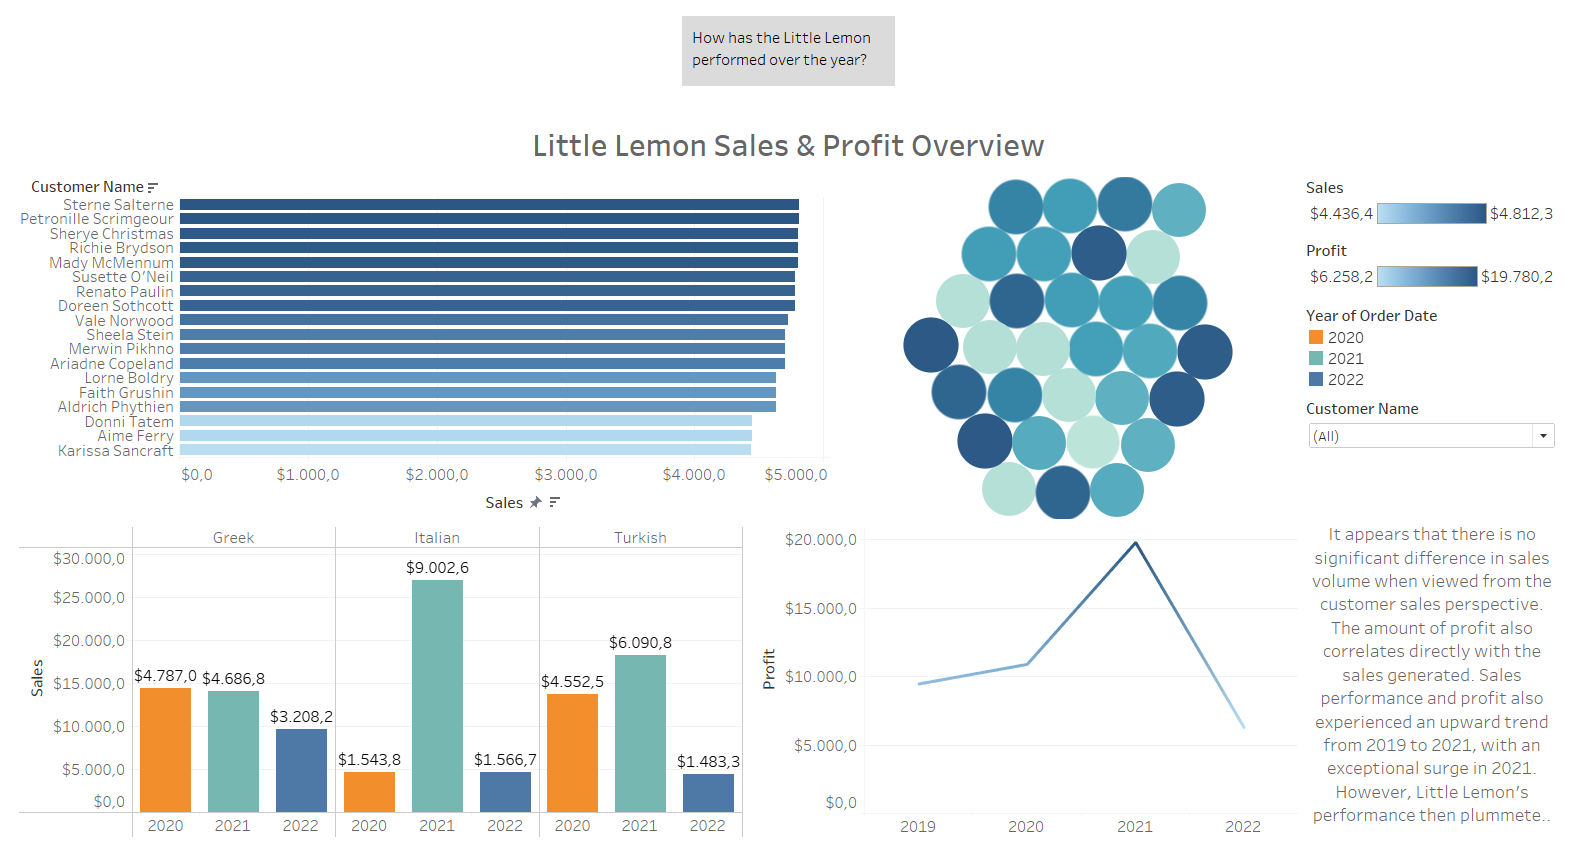

This screenshot's page, from the dashboard's own definition file:
{"tool":"tableau","page":{"name":"Little Lemon Dashboard","canvas":[1000,1000],"units":"permille","ordinal":0},"visuals":[{"type":"text","box":[5.1,9.3,989.9,79]},{"type":"worksheet","title":"Customers Sales","mark":"Automatic","rows":["Customer Name"],"cols":["Sales"],"box":[5.1,88.3,524.9,472.7]},{"type":"worksheet","title":"Sales Bubble Chart","mark":"Circle","box":[530,88.3,300.3,472.7]},{"type":"legend","title":"Customers Sales","param":"[federated.0r2g30d1rmz8s812sdme31h0uei7].[sum:Sales:qk]","box":[830.3,88.3,164.7,73.2]},{"type":"legend","title":"Profit Chart","param":"[federated.0r2g30d1rmz8s812sdme31h0uei7].[sum:Calculation_840484283486748672:qk]","box":[830.3,161.4,164.7,75.5]},{"type":"legend","title":"Cuisine Sales & Profit","param":"[federated.0r2g30d1rmz8s812sdme31h0uei7].[yr:Order Date:ok]","box":[830.3,236.9,164.7,108]},{"type":"filter","title":"Sales Bubble Chart","param":"[federated.0r2g30d1rmz8s812sdme31h0uei7].[Action (Customer Name)]","box":[830.3,344.9,164.7,70.9]},{"type":"blank","box":[830.3,415.8,164.7,67.4]},{"type":"text","box":[830.3,483.2,164.7,455.3]},{"type":"worksheet","title":"Cuisine Sales & Profit","mark":"Bar","rows":["Sales"],"cols":["Cuisine Name","Order Date"],"box":[5.1,561,469,429.7]},{"type":"worksheet","title":"Profit Chart","mark":"Automatic","rows":["Calculation_840484283486748672"],"cols":["Order Date"],"box":[474.1,561,356.2,429.7]}]}

Visuals, with their boxes on the dashboard's canvas, which has no fixed pixel size, in thousandths of its width and height (x1, y1, x2, y2). These are canvas units, not pixel positions in the 1578x857 screenshot, which may show the page scaled, cropped or inside an application window:
text: pyautogui.locateOnScreen(5, 9, 995, 88)
"Customers Sales" worksheet: pyautogui.locateOnScreen(5, 88, 530, 561)
"Sales Bubble Chart" worksheet (Circle marks): pyautogui.locateOnScreen(530, 88, 830, 561)
"Customers Sales" legend: pyautogui.locateOnScreen(830, 88, 995, 162)
"Profit Chart" legend: pyautogui.locateOnScreen(830, 161, 995, 237)
"Cuisine Sales & Profit" legend: pyautogui.locateOnScreen(830, 237, 995, 345)
"Sales Bubble Chart" filter: pyautogui.locateOnScreen(830, 345, 995, 416)
blank: pyautogui.locateOnScreen(830, 416, 995, 483)
text: pyautogui.locateOnScreen(830, 483, 995, 938)
"Cuisine Sales & Profit" worksheet (Bar marks): pyautogui.locateOnScreen(5, 561, 474, 991)
"Profit Chart" worksheet: pyautogui.locateOnScreen(474, 561, 830, 991)
